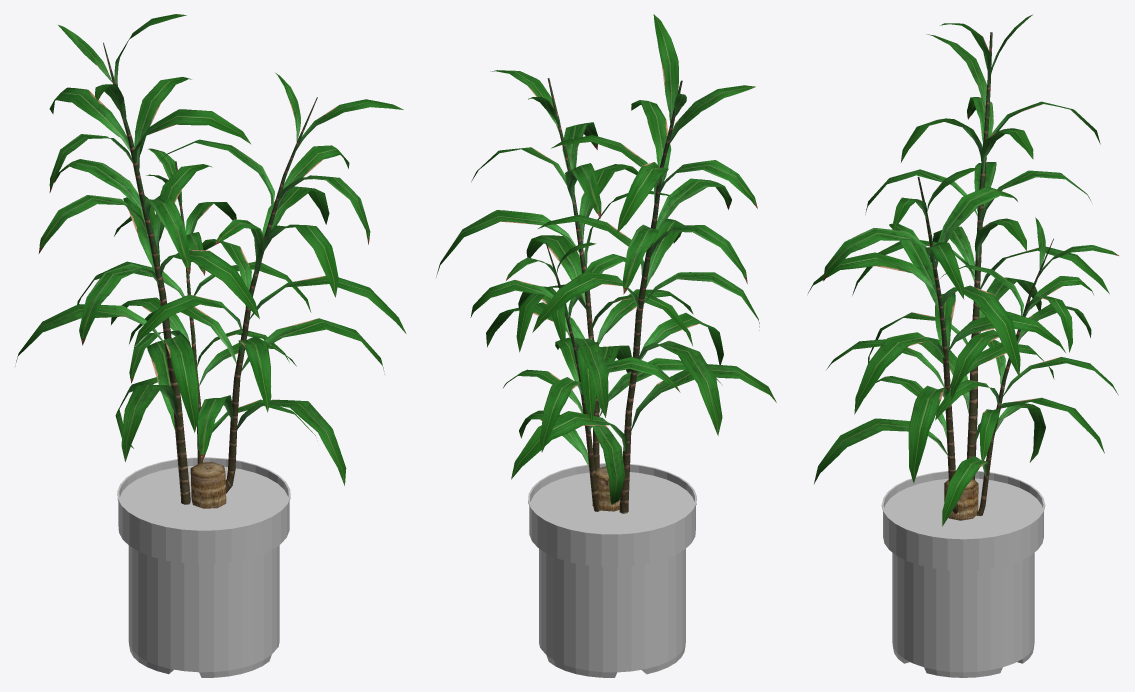
The model's file is Plant2.obj.
3 views of the same model, side by side, from view 1: azimuth 30°, elevation 25°; view 2: azimuth 150°, elevation 25°; view 3: azimuth 270°, elevation 25° (orthographic). The views are drawn at different scales.
Parts seen in each view (by area): view 1: yucca:Yucca, polySurface4613 plants:Mesh; view 2: yucca:Yucca, polySurface4613 plants:Mesh; view 3: yucca:Yucca, polySurface4613 plants:Mesh.
Boxes of the visible parts, x1=… form: yucca:Yucca: x1=15, y1=14, x2=406, y2=508; polySurface4613 plants:Mesh: x1=117, y1=457, x2=290, y2=677; yucca:Yucca: x1=436, y1=14, x2=776, y2=513; polySurface4613 plants:Mesh: x1=528, y1=463, x2=696, y2=677; yucca:Yucca: x1=808, y1=14, x2=1118, y2=526; polySurface4613 plants:Mesh: x1=881, y1=471, x2=1045, y2=677.
Bounding box in the file's own units: 2.8 × 5.49 × 2.57.
